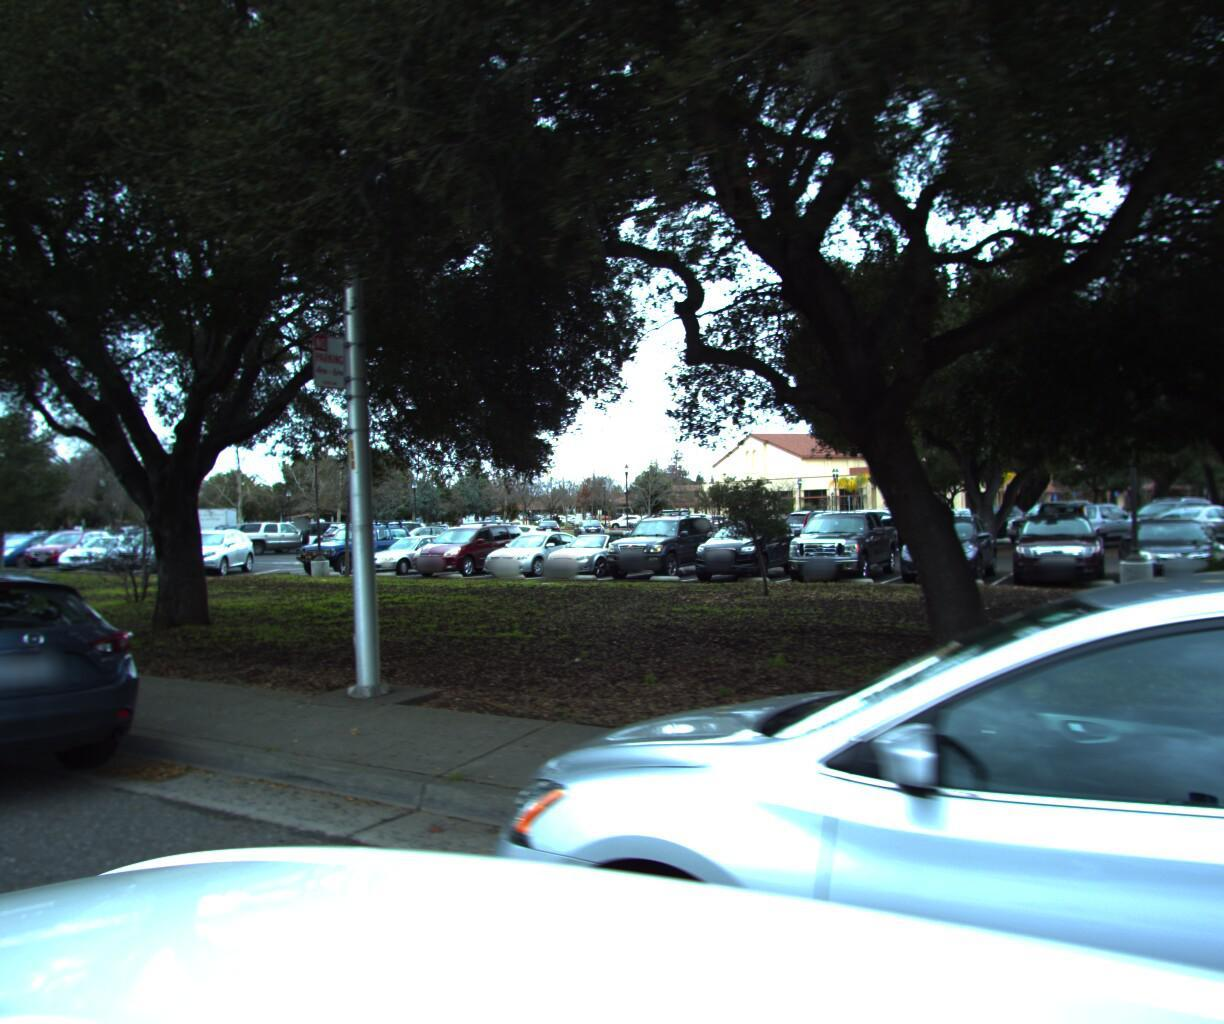car: (358, 547, 1224, 1024), (0, 547, 177, 855)
